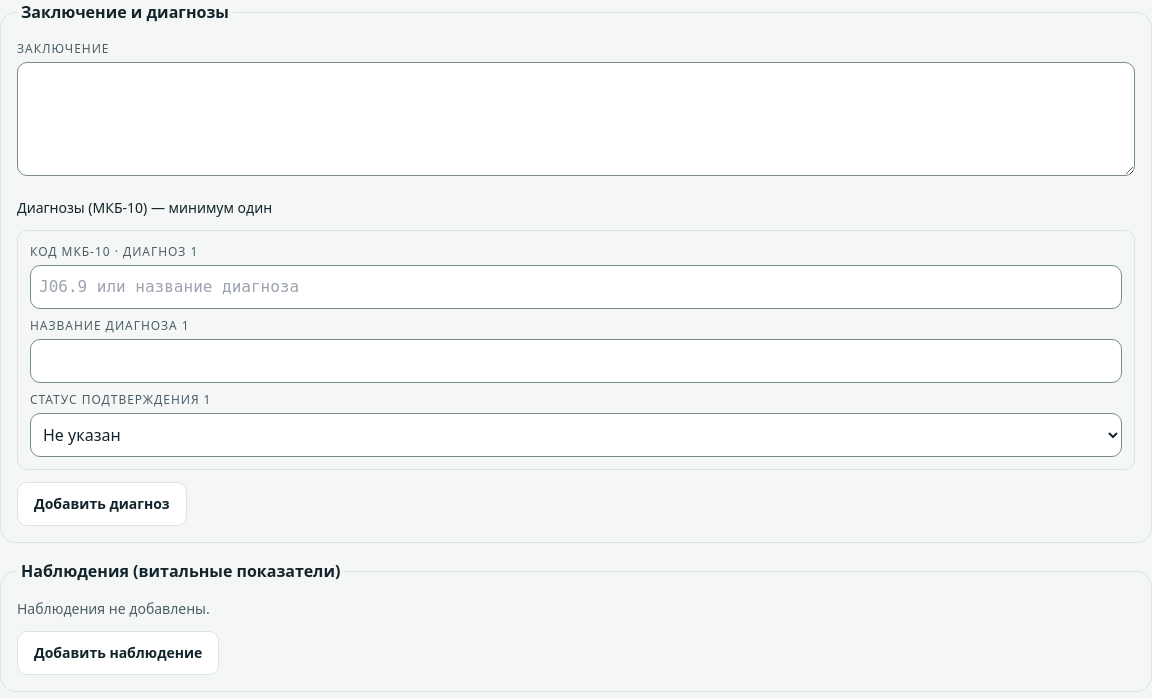
Test case: EncounterCompleteForm observation unit › should start a new observation row with no unit selected
This screenshot has width=1152, height=699.
What coordinates should you click on to do the following:
click the button "Добавить наблюдение"
I would click on:
 (118, 653)
Its box is [17,631,219,675].
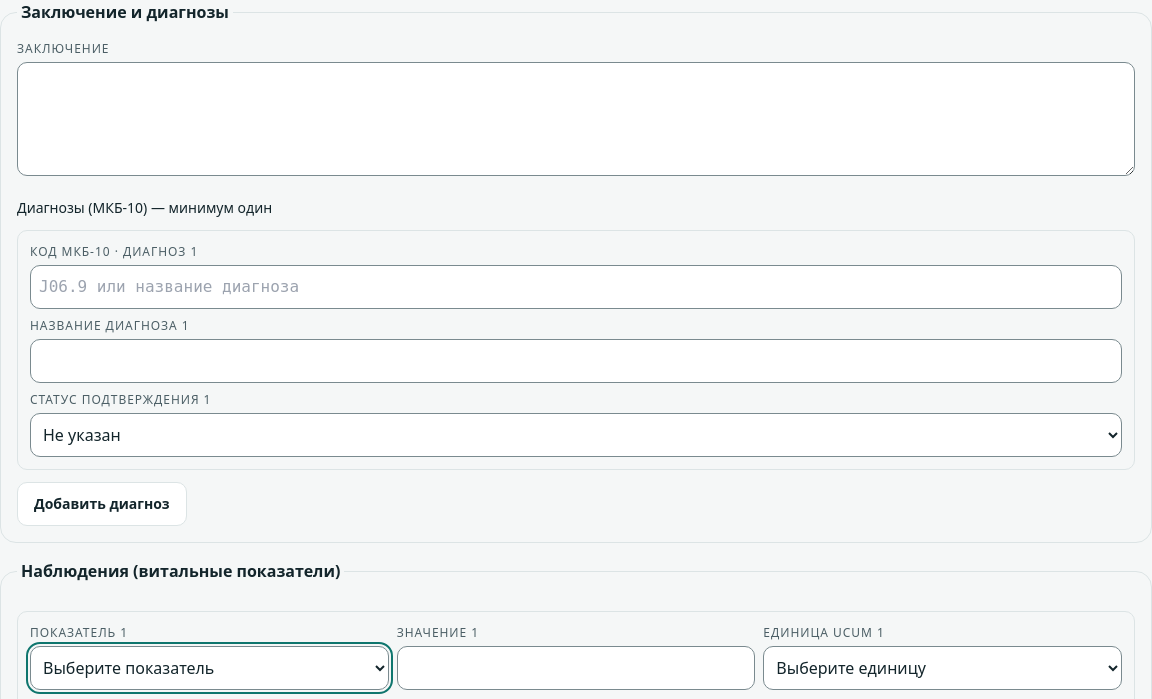
Result: the dropdown labelled "Единица UCUM 1" shows "Выберите единицу" at [763,646,1122,690]
